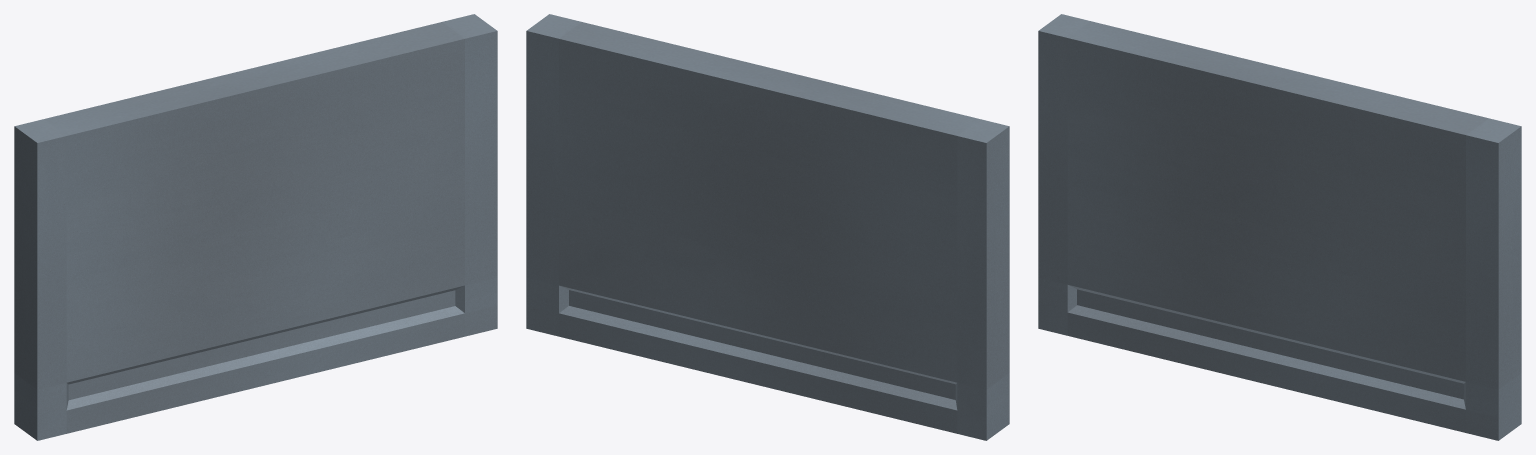
File: elevator.gltf
3 views of the same model, side by side, from view 1: azimuth 30°, elevation 25°; view 2: azimuth 150°, elevation 25°; view 3: azimuth 330°, elevation 25° (orthographic).
Visible parts, largest first — view 1: ElevatorDoor; view 2: ElevatorDoor; view 3: ElevatorDoor.
Part boxes in pixels (x1,y1,x2,y2): ElevatorDoor: (14, 14, 497, 440); ElevatorDoor: (526, 14, 1009, 440); ElevatorDoor: (1038, 14, 1521, 440).
Bounding box in the file's own units: 5.08 × 3.14 × 0.4406.
Materials: 1 (1 with a texture image).
